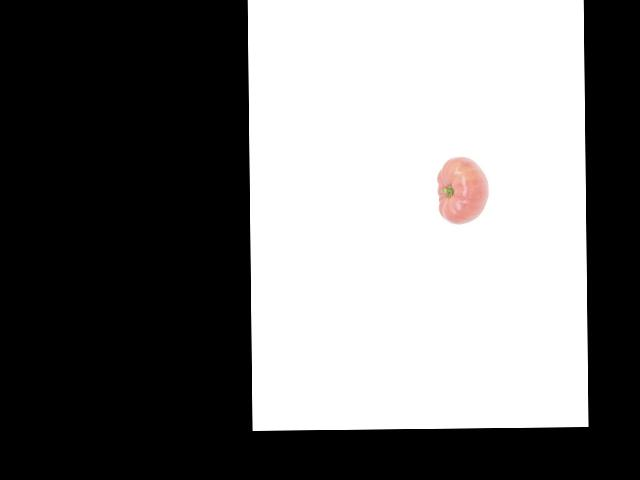tomato: (438, 156, 488, 224)
